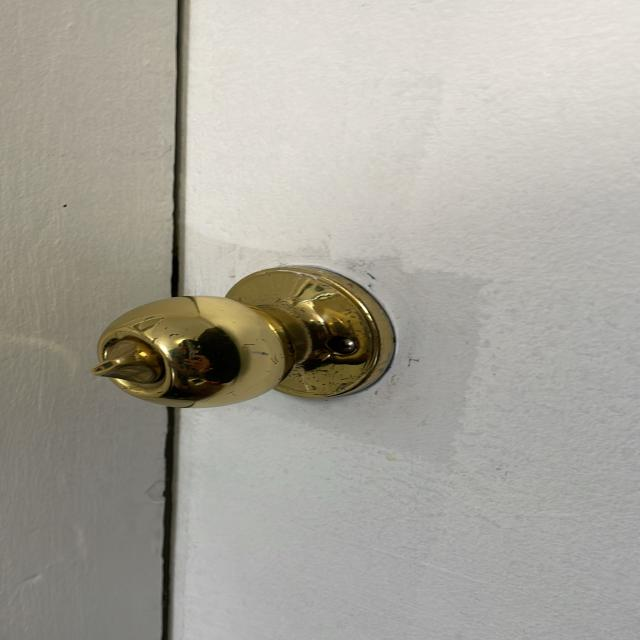door-knob: (93, 266, 396, 408)
